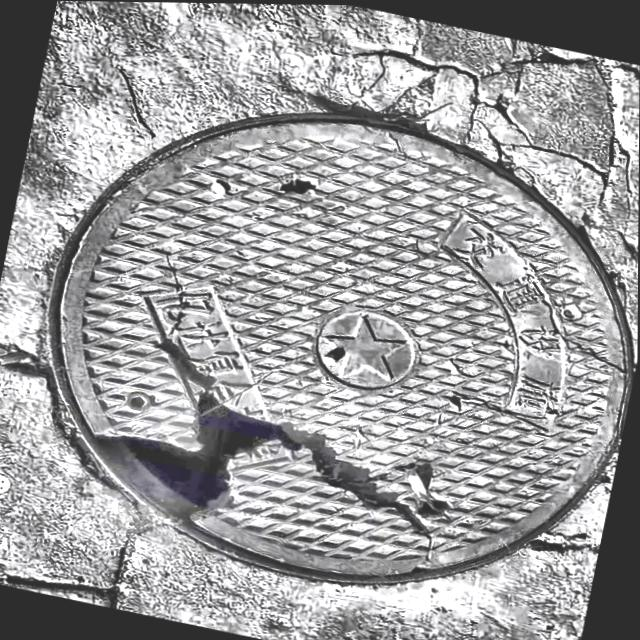open_manhole: (52, 113, 630, 584)
